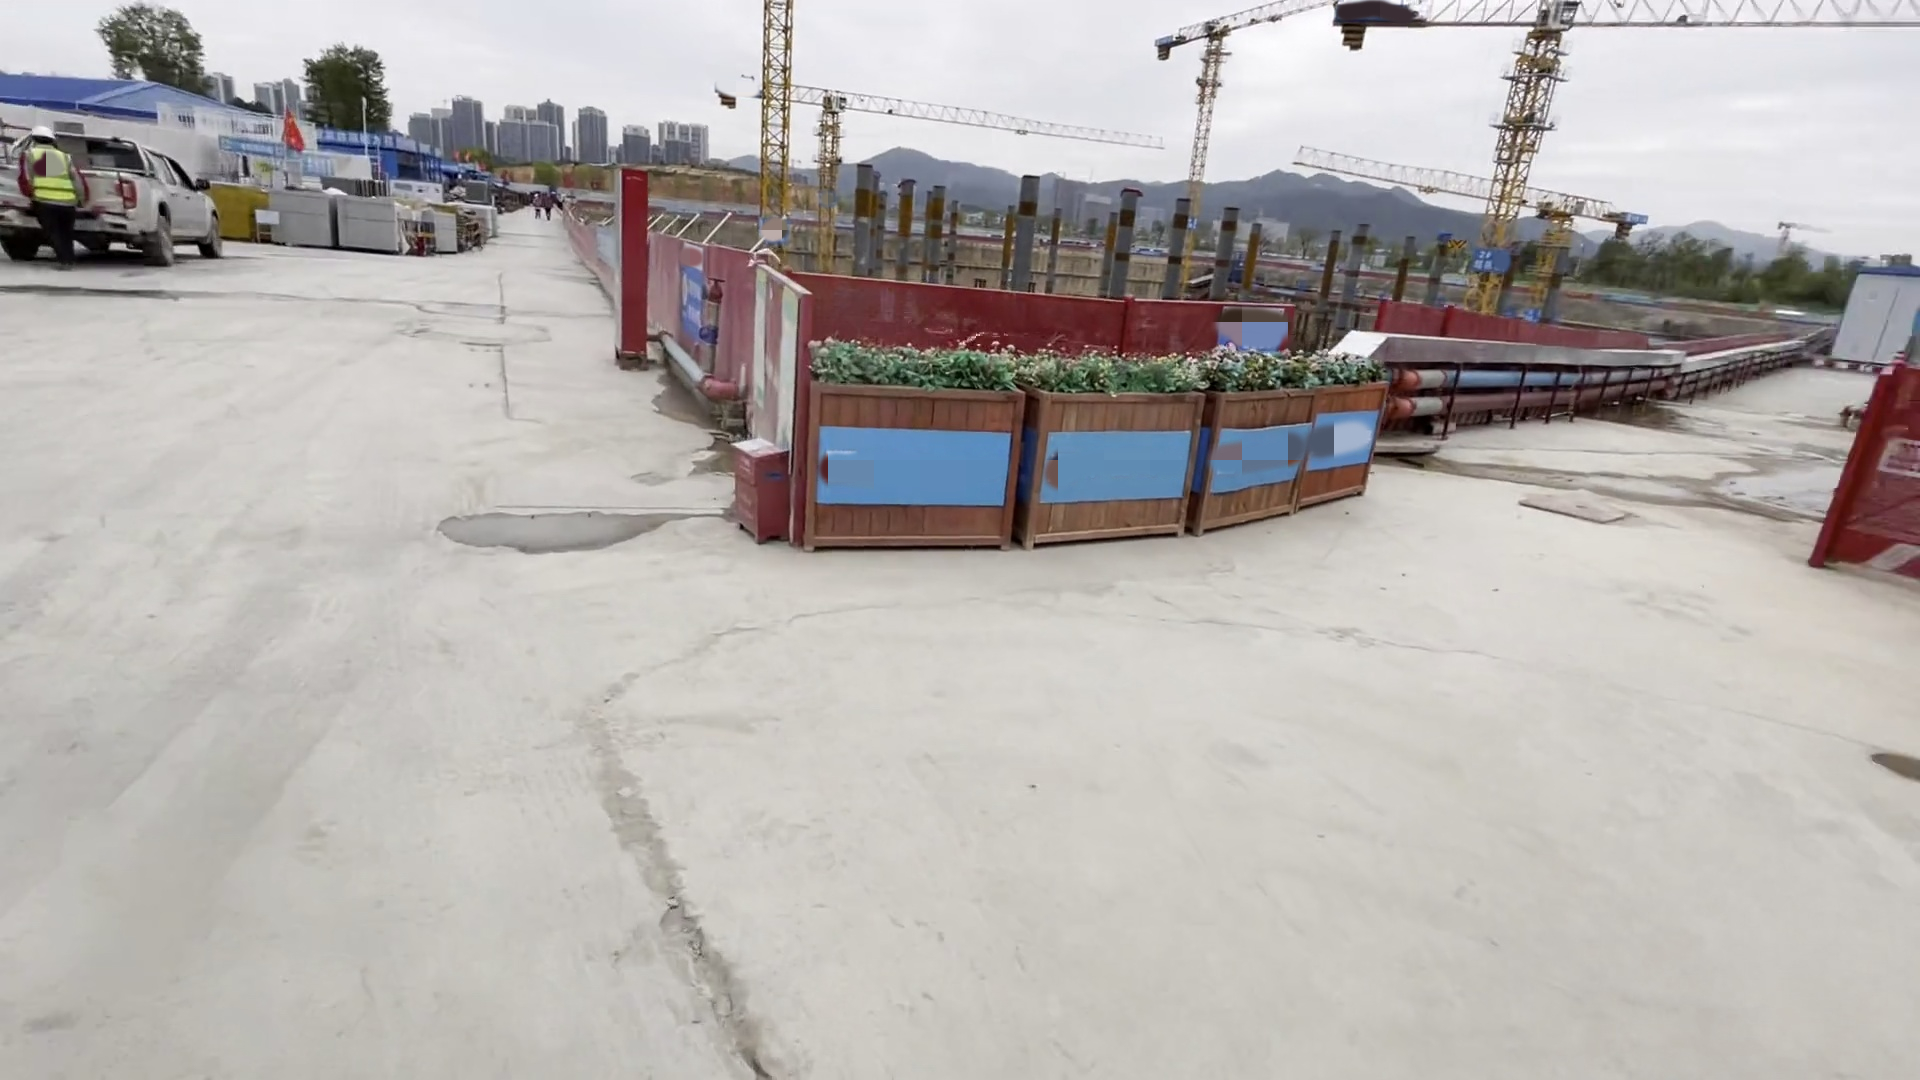brick: (334, 189, 408, 256), (270, 187, 332, 256)
helmet: (31, 124, 56, 143)
person: (16, 122, 99, 274)
vest: (23, 149, 72, 208)
